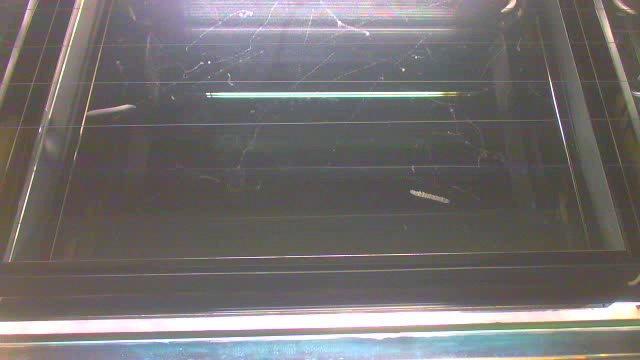Alfa: (84, 104, 138, 118), (408, 188, 452, 204)
